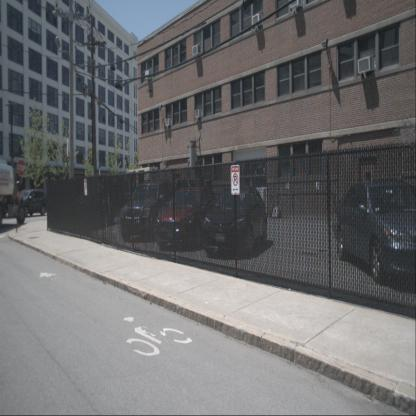vehicle-car: (336, 180, 415, 284), (204, 186, 268, 256), (154, 186, 218, 251), (120, 181, 176, 241), (14, 189, 48, 217)
vehicle-truck: (0, 158, 26, 224)
